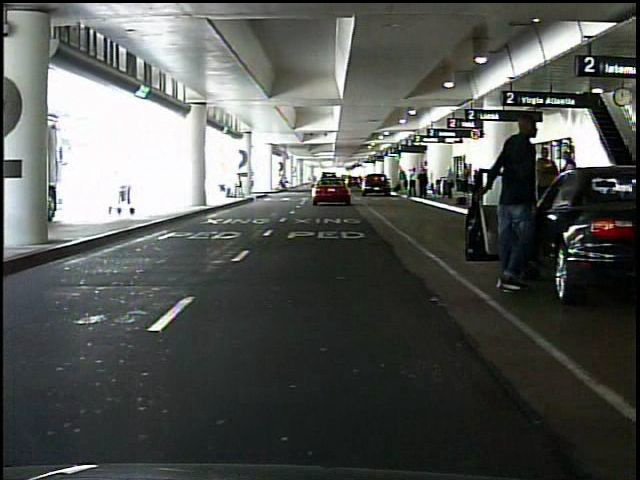person: (485, 110, 554, 303), (533, 146, 561, 234), (560, 149, 581, 229), (461, 163, 473, 206), (444, 167, 457, 201), (418, 168, 429, 201), (408, 167, 419, 200), (399, 170, 409, 197), (279, 173, 288, 190)
